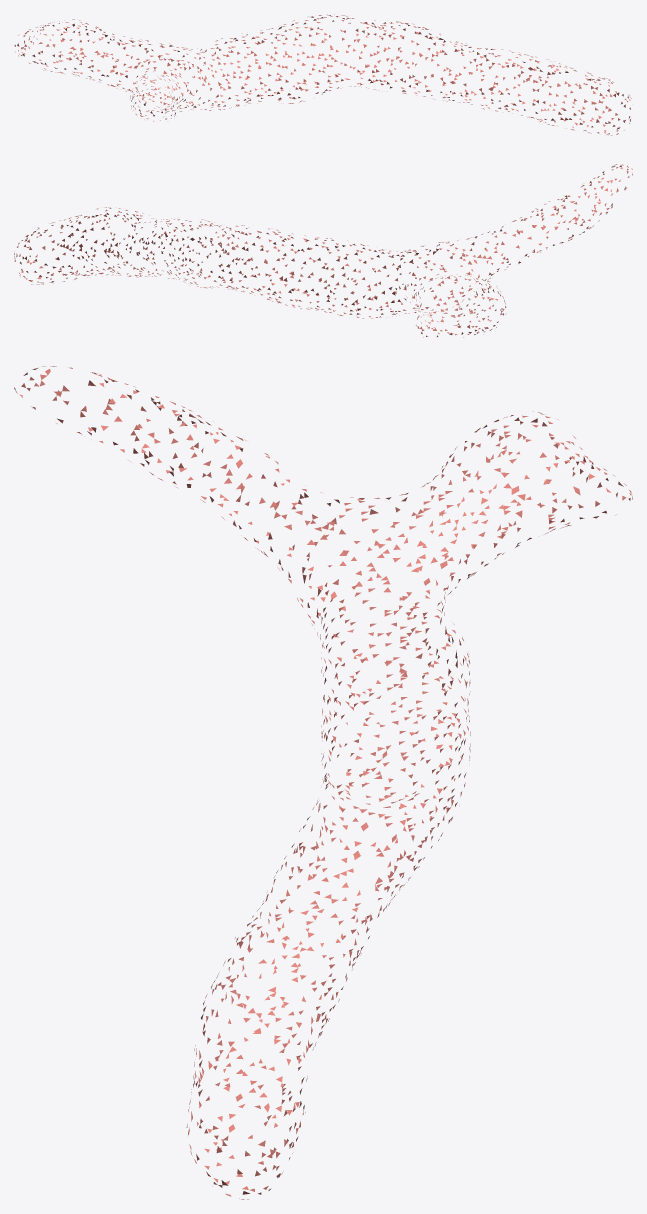
Rendered from morph_001.glb.
3 views of the same model, one above another, from view 1: azimuth 30°, elevation 25°; view 2: azimuth 150°, elevation 25°; view 3: azimuth 270°, elevation 25° (orthographic). The views are drawn at different scales.
Bounding box in the file's own units: 112 × 38.83 × 59.18.
